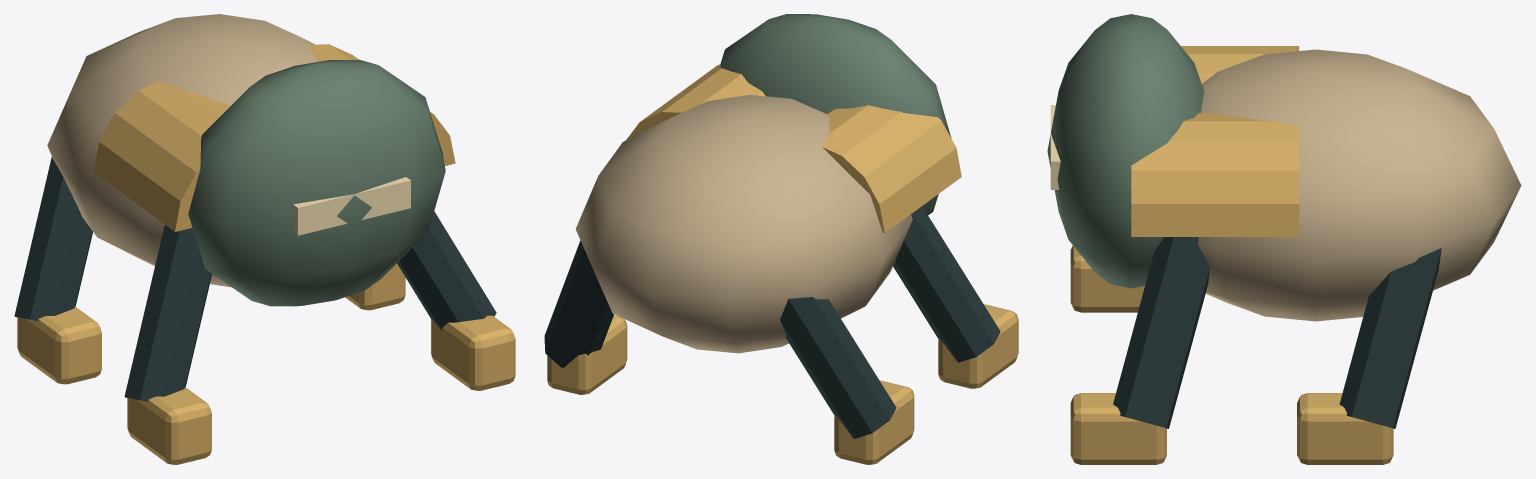
File: pursuer.glb
3 views of the same model, side by side, from view 1: azimuth 30°, elevation 25°; view 2: azimuth 150°, elevation 25°; view 3: azimuth 270°, elevation 25° (orthographic). The views are drawn at different scales.
Parts seen in each view (by area): view 1: pursuer_solid; view 2: pursuer_solid; view 3: pursuer_solid.
Part boxes in pixels (box(x1,y1,x2,y2)): pursuer_solid: box(14, 14, 515, 464); pursuer_solid: box(544, 14, 1018, 464); pursuer_solid: box(1047, 14, 1521, 464).
Size of the model in its own units: 1.03 by 0.925 by 1.13.
